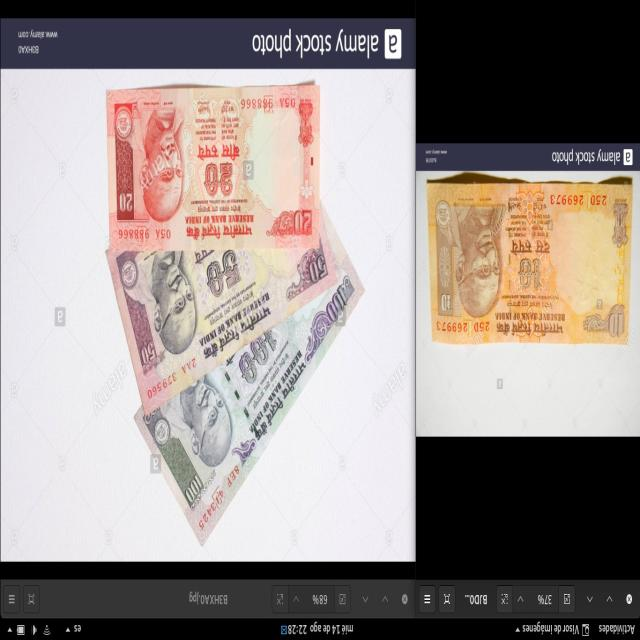20IndianRupees: (111, 90, 321, 246)
